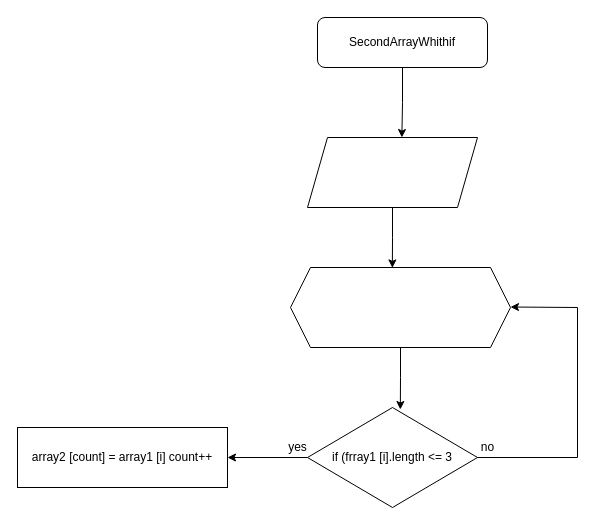
This 603x525 diagram has some shape labels left out. The box of each missing label's shape, as (x1, y1, x2, y2) in pixels:
for (int i = 0; i < array1.length; i ++: (290, 266, 510, 348)
string [ ] array1 string [ ] array2 int count = 0: (306, 136, 478, 208)
